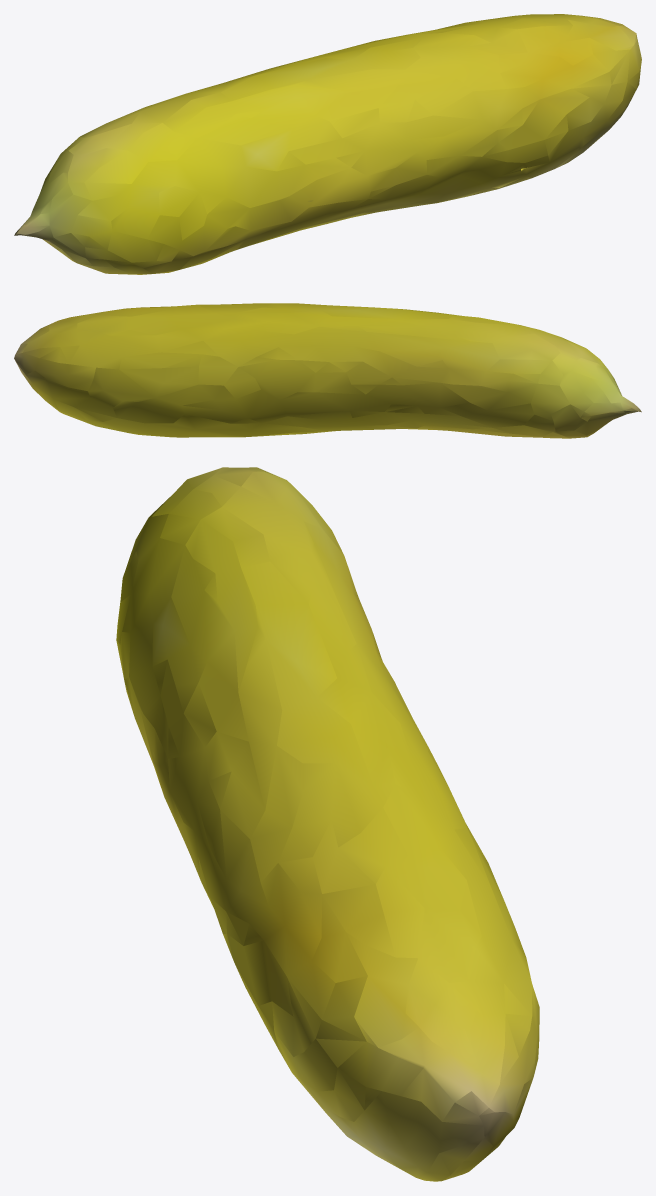
File: 0002_mask_003_yellow_squash.glb
The picture shows the model from 3 angles, top to bottom: view 1: azimuth 30°, elevation 25°; view 2: azimuth 150°, elevation 25°; view 3: azimuth 270°, elevation 25°; orthographic projection. The views are drawn at different scales.
Parts seen in each view (by area): view 1: mask_003_object; view 2: mask_003_object; view 3: mask_003_object.
Part boxes in pixels (<box>): mask_003_object: <box>14,14,641,274</box>; mask_003_object: <box>14,303,641,438</box>; mask_003_object: <box>116,467,539,1181</box>.
Size of the model in its own units: 0.2741 by 0.0736 by 0.09.
